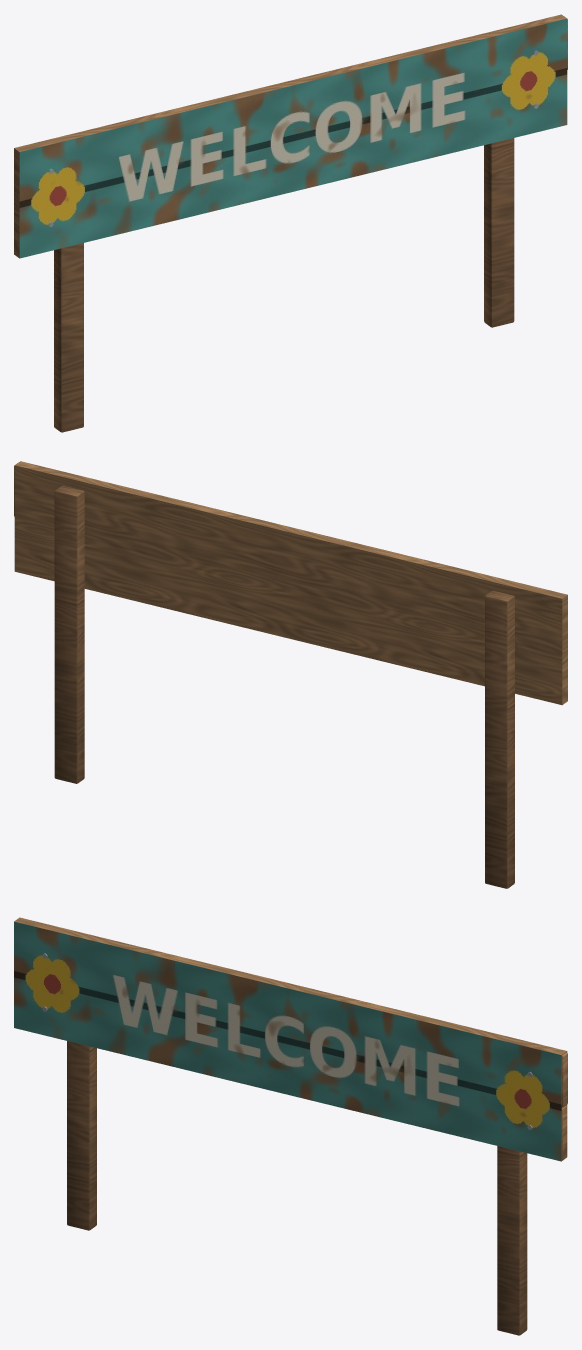
Rendered from welcome_sign.glb.
The picture shows the model from 3 angles, top to bottom: view 1: azimuth 30°, elevation 25°; view 2: azimuth 150°, elevation 25°; view 3: azimuth 330°, elevation 25°; orthographic projection.
Visible parts, largest first — view 1: WelcomeSignMesh; view 2: WelcomeSignMesh; view 3: WelcomeSignMesh.
Boxes of the visible parts, box(x1,y1,x2,y2) form: WelcomeSignMesh: box(14, 14, 567, 432); WelcomeSignMesh: box(14, 461, 567, 888); WelcomeSignMesh: box(14, 917, 567, 1335).
Bounding box in the file's own units: 1.4 × 0.725 × 0.062.
Materials: 4 (4 with a texture image).
